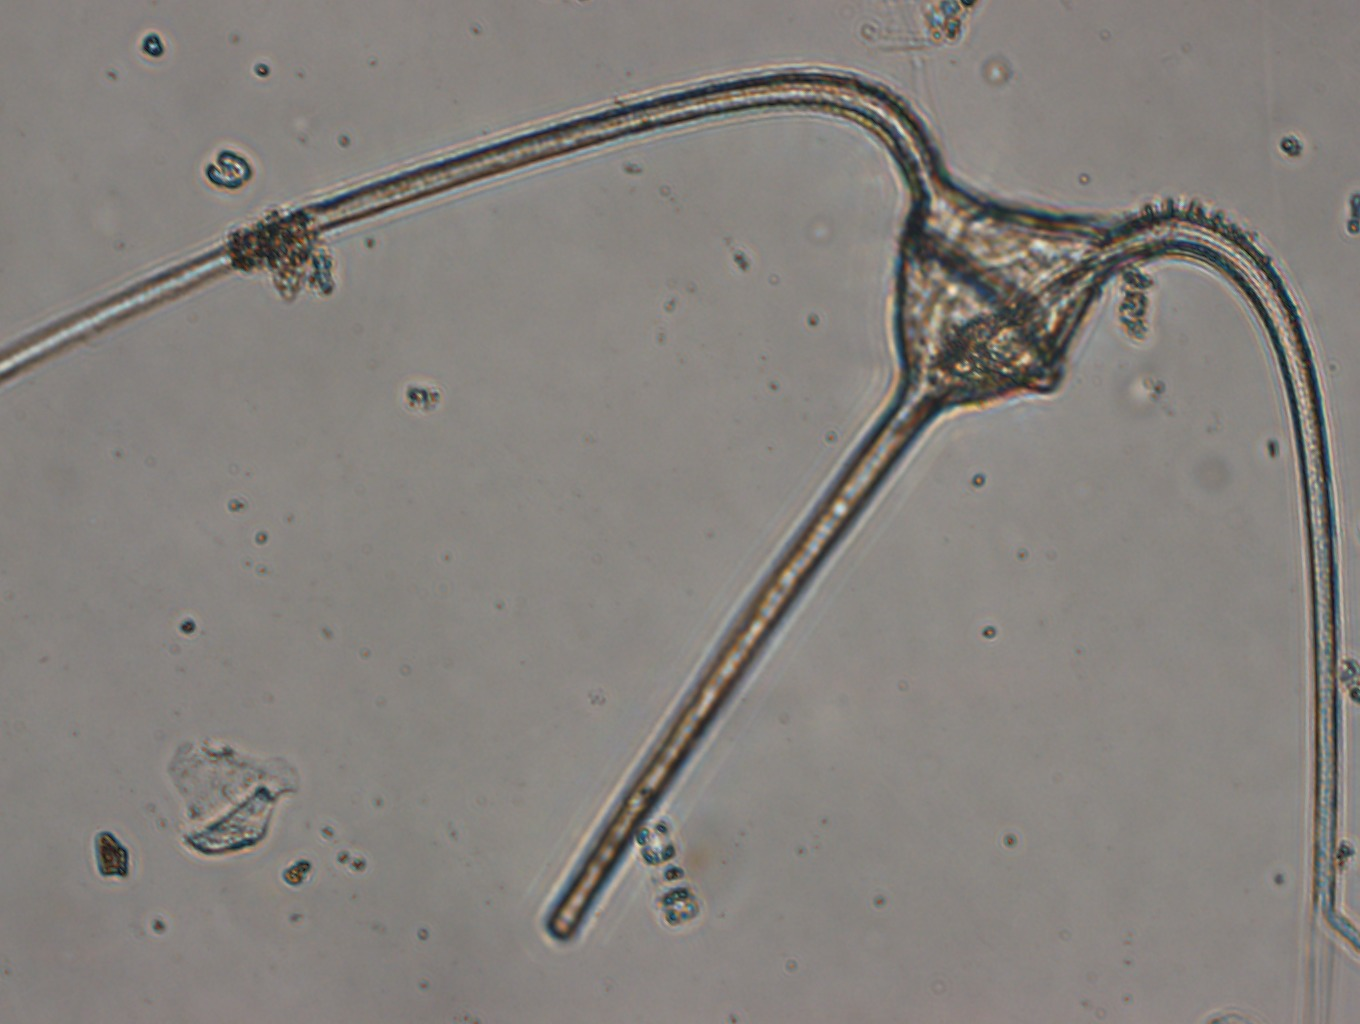ceratium trichoceros: (1, 66, 1343, 1022)
